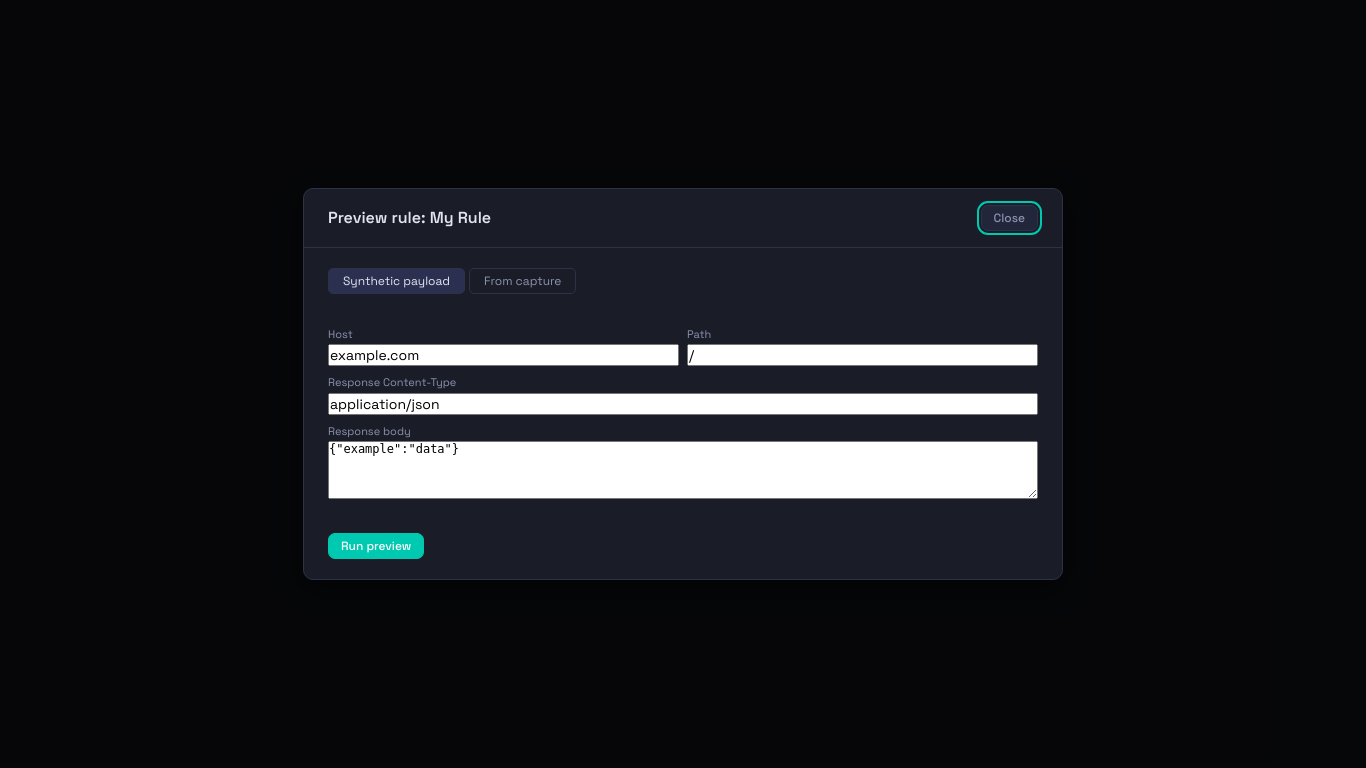
it: RulePreviewModal › shows result metadata when preview succeeds
Click the button "Run preview": (376, 546) [328,533,424,559]
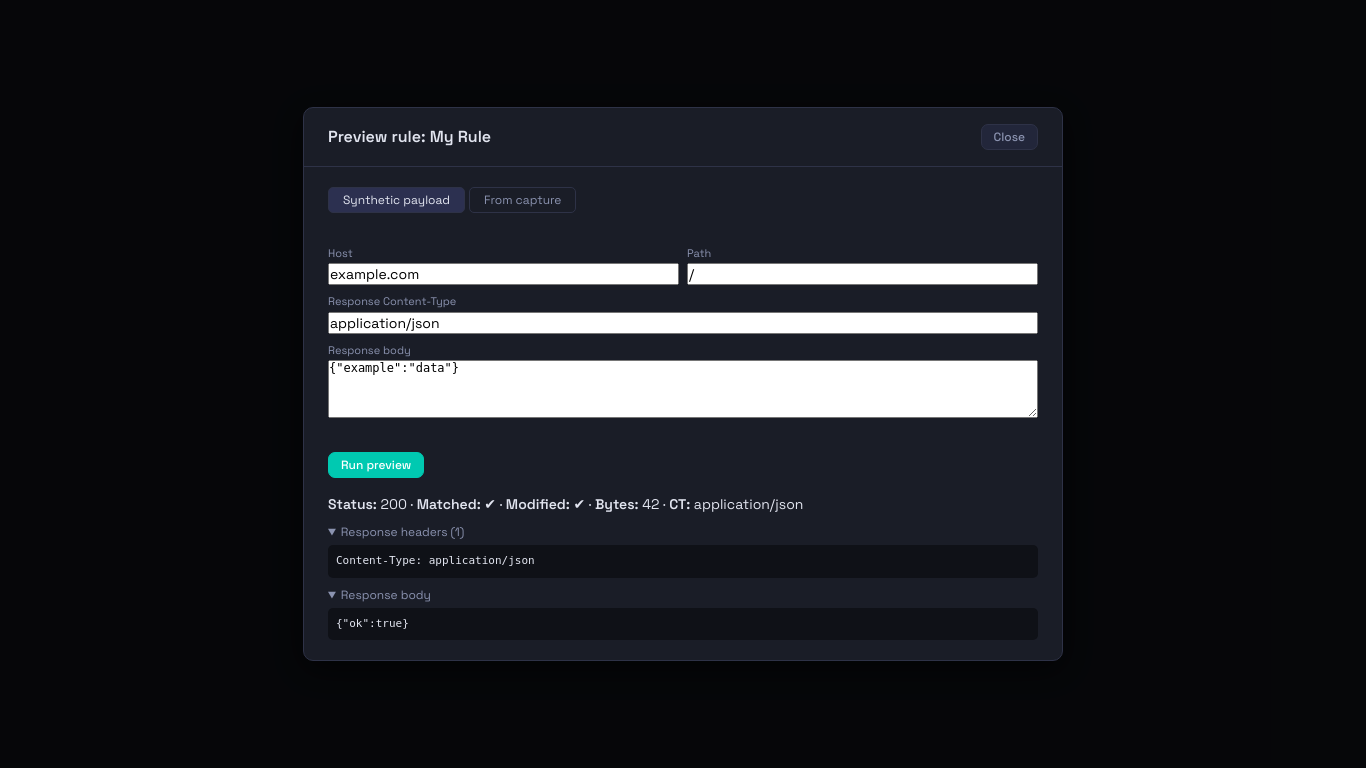
expect the element that starts with "Status:" shows "42": met, box [642,495,659,513]
expect the element that starts with "Status:" shows "application/json": met, box [694,495,803,513]
